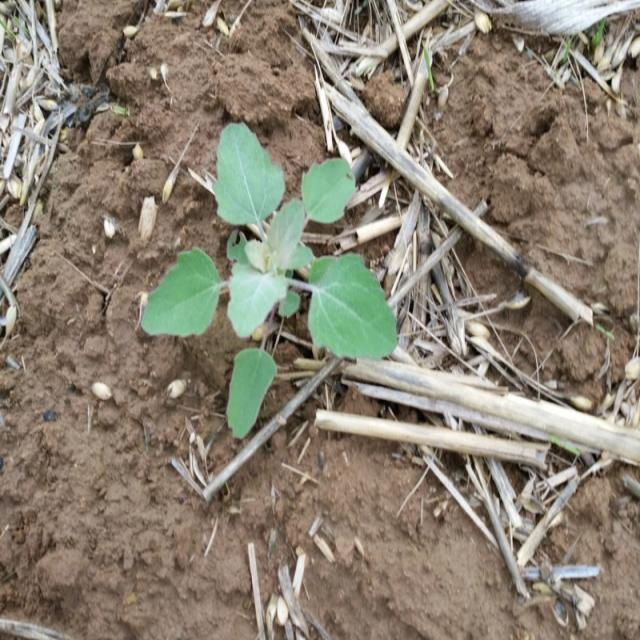goosefoots: (152, 111, 422, 418)
